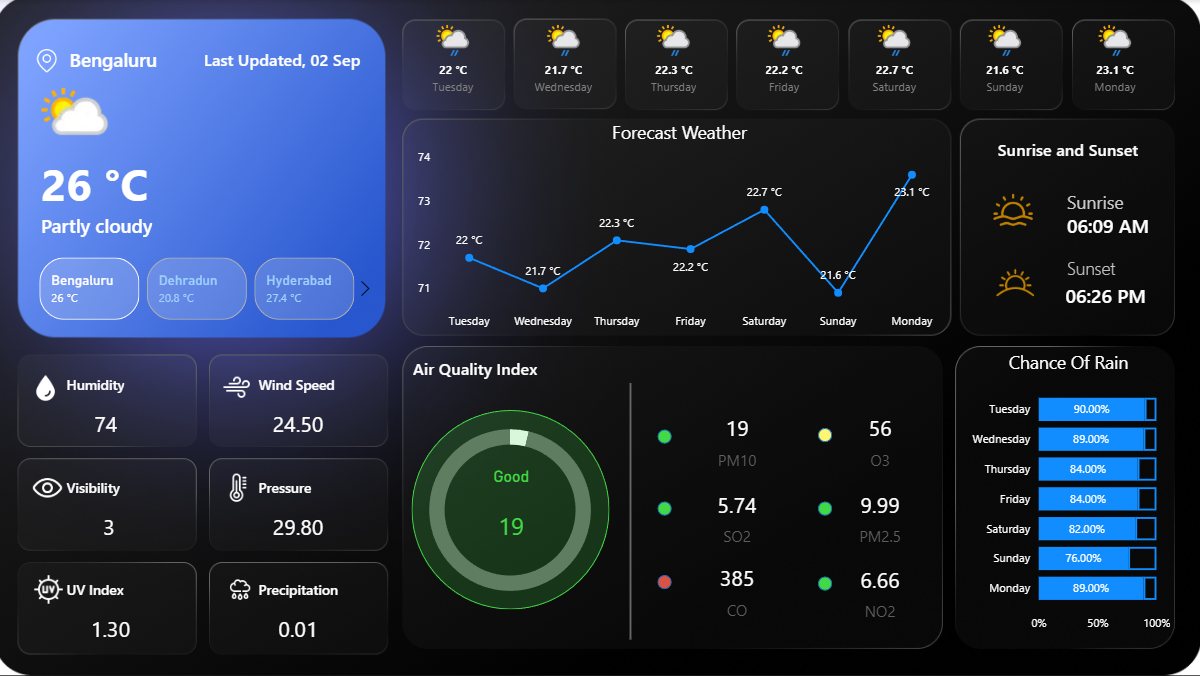

Layout of this report page (visuals, bound fields, positions):
{"tool":"powerbi","page":{"name":"Page 1","canvas":[1280,720],"ordinal":0},"visuals":[{"type":"donutChart","fields":{"Y":["Sum(Current.current.air_quality.pm10)","_Measures.Left_Value_PM10"]},"box":[435.8,396.1,224.3,291.1],"z":0},{"type":"shape","box":[443.8,435.8,210,211.6],"z":1000},{"type":"advancedSlicerVisual","fields":{"Values":["Location.location.name"]},"box":[24.3,269.4,386.8,77],"z":2000},{"type":"shape","box":[50.6,164.1,232.9,60.8],"z":3000},{"type":"shape","box":[50.6,224.8,338.2,30.4],"z":4000},{"type":"shape","box":[81.1,44.5,138.4,38.2],"z":5000},{"type":"image","box":[33.4,47.7,47.7,35],"z":6000},{"type":"shape","box":[219.5,44.5,170.2,38.2],"z":7000},{"type":"cardVisual","fields":{"Data":["Min(Current.current.condition.icon)"]},"box":[24.3,64.8,109.4,99.2],"z":8000},{"type":"image","box":[33.3,495,48.3,46.7],"z":9000},{"type":"shape","box":[78.3,503.3,85,30],"z":10000},{"type":"image","box":[33,393,45,39],"z":11000},{"type":"shape","box":[78,393,85,30],"z":12000},{"type":"shape","box":[281.4,392.9,85.7,30],"z":13000},{"type":"shape","box":[281.4,502.9,85.7,30],"z":14000},{"type":"shape","box":[281,611,86,30],"z":15000},{"type":"shape","box":[78.6,611.4,84.3,30],"z":16000},{"type":"image","box":[231.4,391.4,55.7,40],"z":17000},{"type":"image","box":[237.1,498.6,45.7,40],"z":18000},{"type":"image","box":[36,605,44,43],"z":19000},{"type":"image","box":[244,608,37,37],"z":20000},{"type":"cardVisual","fields":{"Data":["Sum(Current.current.humidity)"]},"box":[33.4,408.8,173.4,63.6],"z":21000},{"type":"cardVisual","fields":{"Data":["Sum(Current.current.wind_kph)"]},"box":[237,408.8,173.4,63.6],"z":22000},{"type":"cardVisual","fields":{"Data":["Sum(Current.current.vis_miles)"]},"box":[36.6,518.5,173.4,63.6],"z":23000},{"type":"cardVisual","fields":{"Data":["Sum(Current.current.pressure_in)"]},"box":[237,518.5,173.4,63.6],"z":24000},{"type":"cardVisual","fields":{"Data":["Sum(Current.current.precip_in)"]},"box":[237,626.7,173.4,63.6],"z":25000},{"type":"cardVisual","fields":{"Data":["Sum(Current.current.uv)"]},"box":[38.2,626.7,173.4,63.6],"z":26000},{"type":"advancedSlicerVisual","fields":{"Values":["Forecast_Day.Day_Name"]},"box":[428.3,16.7,825,98.3],"z":27000},{"type":"lineChart","title":"Forecast Weather","fields":{"Y":["Sum(Forecast_Day.forecast.forecastday.day.avgtemp_f)"],"Category":["Forecast_Day.Day_Name"]},"box":[445.6,129.6,565.1,230.9],"z":28000},{"type":"shape","box":[1026.8,129.6,224.8,60.8],"z":29000},{"type":"shape","box":[1138.2,210.6,113.4,60.8],"z":30000},{"type":"shape","box":[1137.3,284.7,112.9,60.4],"z":31000},{"type":"shape","box":[1138.2,184.3,113.4,60.8],"z":32000},{"type":"shape","box":[1138.9,254.5,112.9,60.4],"z":33000},{"type":"image","box":[1051.4,197.2,60.4,52.5],"z":34000},{"type":"image","box":[1051.4,268.8,65.2,63.6],"z":35000},{"type":"hundredPercentStackedBarChart","title":"Chance Of Rain","fields":{"Y":["Sum(Forecast_Day.forecast.forecastday.day.daily_chance_of_rain)","Current.Left_Value_Rain"],"Category":["Forecast_Day.Day_Name"]},"box":[1027.5,372.2,225.9,307],"z":36000},{"type":"shape","box":[445.4,372.2,230.6,39.8],"z":37000},{"type":"cardVisual","fields":{"Data":["Sum(Current.current.air_quality.pm10)"]},"box":[740.3,421.9,99.9,83.3],"z":38000},{"type":"cardVisual","fields":{"Data":["Sum(Current.current.air_quality.o3)"]},"box":[890.7,421.5,100.2,81.1],"z":39000},{"type":"cardVisual","fields":{"Data":["Sum(Current.current.air_quality.no2)"]},"box":[890.7,582.2,100.2,81.1],"z":40000},{"type":"cardVisual","fields":{"Data":["Sum(Current.current.air_quality.pm2_5)"]},"box":[890.7,502.6,100.2,82.7],"z":41000},{"type":"cardVisual","fields":{"Data":["Sum(Current.current.air_quality.so2)"]},"box":[740.3,503.4,99.9,81.4],"z":42000},{"type":"cardVisual","fields":{"Data":["Sum(Current.current.air_quality.co)"]},"box":[740.3,581.1,99.9,81.4],"z":43000},{"type":"shape","box":[705.1,457.1,15,15],"z":44000},{"type":"shape","box":[705.1,533,15,15],"z":45000},{"type":"shape","box":[705.1,610.7,15,15],"z":46000},{"type":"shape","box":[875.3,612.6,15,15],"z":47000},{"type":"shape","box":[875.3,455.3,15,15],"z":48000},{"type":"shape","box":[875.3,533,15,15],"z":49000},{"type":"shape","box":[618.7,407.2,114.5,272],"z":50000},{"type":"cardVisual","fields":{"Data":["Sum(Current.current.air_quality.pm10)"]},"box":[497.9,496.3,103.4,87.5],"z":51000}]}

Visuals, with their boxes in screenshot pixels (x1, y1, x2, y2), scaled from the page's 1280x720 canvas onto the 1200x676 screenshot:
donutChart - Sum(Current.current.air_quality.pm10) x _Measures.Left_Value_PM10: select_region(409, 372, 619, 645)
shape: select_region(416, 409, 613, 608)
advancedSlicerVisual - Location.location.name: select_region(23, 253, 385, 325)
shape: select_region(47, 154, 266, 211)
shape: select_region(47, 211, 364, 240)
shape: select_region(76, 42, 206, 78)
image: select_region(31, 45, 76, 78)
shape: select_region(206, 42, 365, 78)
cardVisual - Min(Current.current.condition.icon): select_region(23, 61, 125, 154)
image: select_region(31, 465, 76, 509)
shape: select_region(73, 473, 153, 501)
image: select_region(31, 369, 73, 406)
shape: select_region(73, 369, 153, 397)
shape: select_region(264, 369, 344, 397)
shape: select_region(264, 472, 344, 500)
shape: select_region(263, 574, 344, 602)
shape: select_region(74, 574, 153, 602)
image: select_region(217, 367, 269, 405)
image: select_region(222, 468, 265, 506)
image: select_region(34, 568, 75, 608)
image: select_region(229, 571, 263, 606)
cardVisual - Sum(Current.current.humidity): select_region(31, 384, 194, 444)
cardVisual - Sum(Current.current.wind_kph): select_region(222, 384, 385, 444)
cardVisual - Sum(Current.current.vis_miles): select_region(34, 487, 197, 547)
cardVisual - Sum(Current.current.pressure_in): select_region(222, 487, 385, 547)
cardVisual - Sum(Current.current.precip_in): select_region(222, 588, 385, 648)
cardVisual - Sum(Current.current.uv): select_region(36, 588, 198, 648)
advancedSlicerVisual - Forecast_Day.Day_Name: select_region(402, 16, 1175, 108)
"Forecast Weather" lineChart: select_region(418, 122, 948, 338)
shape: select_region(963, 122, 1173, 179)
shape: select_region(1067, 198, 1173, 255)
shape: select_region(1066, 267, 1172, 324)
shape: select_region(1067, 173, 1173, 230)
shape: select_region(1068, 239, 1174, 296)
image: select_region(986, 185, 1042, 234)
image: select_region(986, 252, 1047, 312)
"Chance Of Rain" hundredPercentStackedBarChart: select_region(963, 349, 1175, 638)
shape: select_region(418, 349, 634, 387)
cardVisual - Sum(Current.current.air_quality.pm10): select_region(694, 396, 788, 474)
cardVisual - Sum(Current.current.air_quality.o3): select_region(835, 396, 929, 472)
cardVisual - Sum(Current.current.air_quality.no2): select_region(835, 547, 929, 623)
cardVisual - Sum(Current.current.air_quality.pm2_5): select_region(835, 472, 929, 550)
cardVisual - Sum(Current.current.air_quality.so2): select_region(694, 473, 788, 549)
cardVisual - Sum(Current.current.air_quality.co): select_region(694, 546, 788, 622)
shape: select_region(661, 429, 675, 443)
shape: select_region(661, 500, 675, 515)
shape: select_region(661, 573, 675, 587)
shape: select_region(821, 575, 835, 589)
shape: select_region(821, 427, 835, 442)
shape: select_region(821, 500, 835, 515)
shape: select_region(580, 382, 687, 638)
cardVisual - Sum(Current.current.air_quality.pm10): select_region(467, 466, 564, 548)
